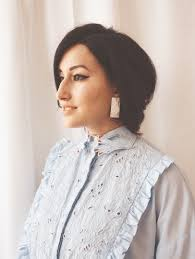asian_female: (40, 35, 125, 144)
